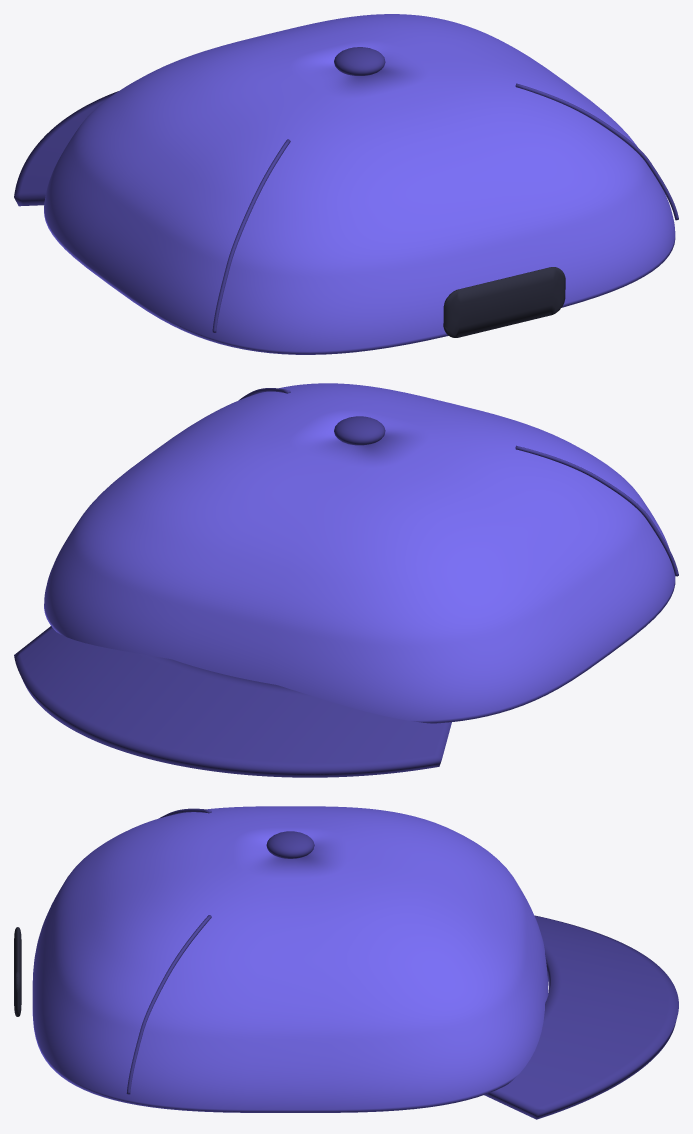
Rendered from homie_backwards_cap.glb.
3 renders of one model, top to bottom at view 1: azimuth 30°, elevation 25°; view 2: azimuth 150°, elevation 25°; view 3: azimuth 270°, elevation 25°, orthographic. The views are drawn at different scales.
Parts seen in each view (by area): view 1: homie_backwards_cap__crown, homie_backwards_cap__adjustment_strap, homie_backwards_cap__visor, homie_backwards_cap__top_button, homie_backwards_cap__crown_seam_1, homie_backwards_cap__crown_seam_0; view 2: homie_backwards_cap__crown, homie_backwards_cap__visor, homie_backwards_cap__top_button, homie_backwards_cap__crown_seam_0; view 3: homie_backwards_cap__crown, homie_backwards_cap__visor, homie_backwards_cap__top_button, homie_backwards_cap__crown_seam_1, homie_backwards_cap__adjustment_strap.
Boxes of the visible parts, x1,y1,x2,y2 form: homie_backwards_cap__crown: (44, 14, 675, 354); homie_backwards_cap__adjustment_strap: (443, 267, 565, 337); homie_backwards_cap__visor: (14, 91, 118, 206); homie_backwards_cap__top_button: (334, 47, 385, 75); homie_backwards_cap__crown_seam_1: (515, 83, 678, 220); homie_backwards_cap__crown_seam_0: (212, 139, 290, 332); homie_backwards_cap__crown: (44, 383, 675, 723); homie_backwards_cap__visor: (14, 626, 451, 777); homie_backwards_cap__top_button: (334, 416, 385, 445); homie_backwards_cap__crown_seam_0: (515, 445, 678, 576); homie_backwards_cap__crown: (32, 806, 548, 1112); homie_backwards_cap__visor: (484, 915, 678, 1119); homie_backwards_cap__top_button: (266, 831, 314, 858); homie_backwards_cap__crown_seam_1: (126, 915, 211, 1094); homie_backwards_cap__adjustment_strap: (14, 927, 21, 1016).
Bounding box in the file's own units: 1.85 × 0.7033 × 2.26.
